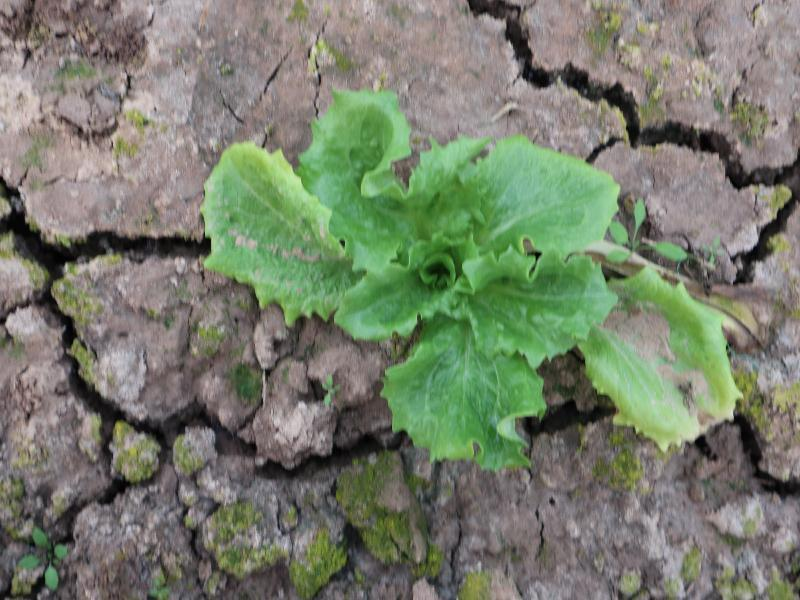lettuce: (197, 84, 742, 471)
